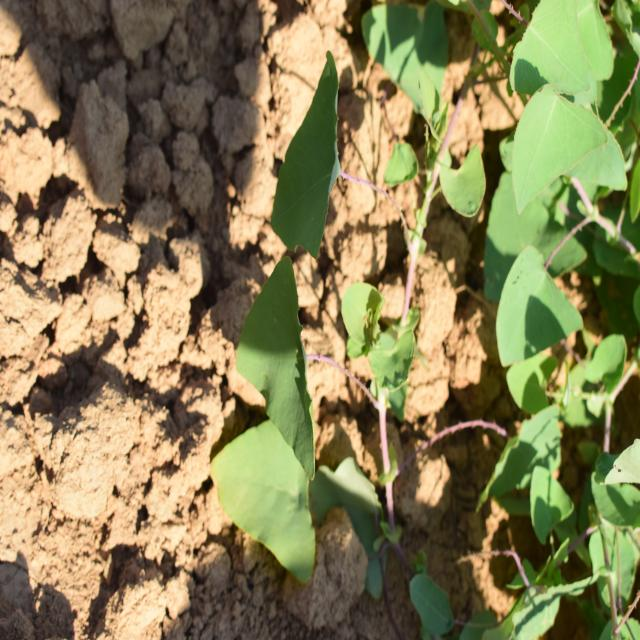Asiatic_Smartweed: (219, 243, 420, 578), (491, 4, 639, 422), (278, 67, 398, 278)
